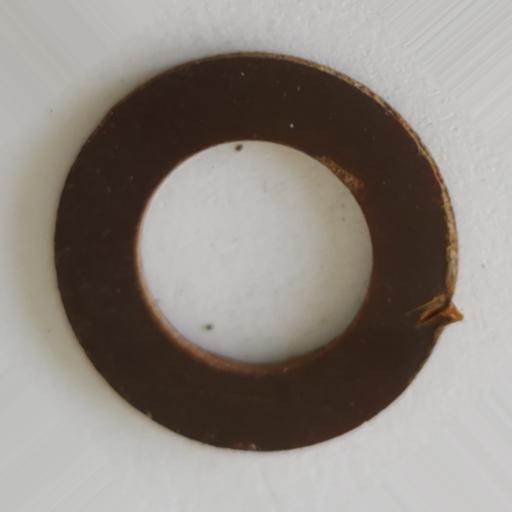defect: (405, 294, 466, 327)
